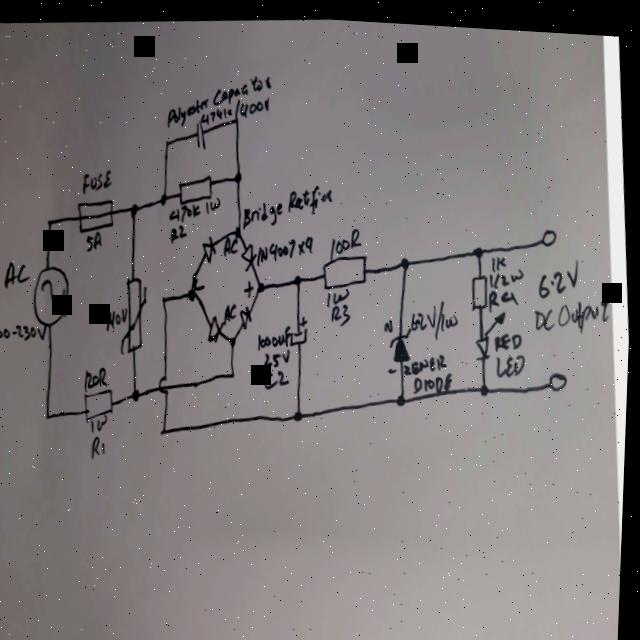capacitor: (288, 308, 311, 340), (192, 115, 206, 148)
crossover: (157, 369, 174, 397)
diode: (473, 300, 510, 358), (382, 310, 417, 369), (239, 235, 260, 268), (207, 309, 226, 341), (201, 229, 218, 260), (239, 299, 255, 327)
junction: (128, 196, 140, 217), (472, 235, 484, 254), (157, 187, 169, 204), (186, 282, 198, 299), (293, 400, 305, 417), (396, 384, 408, 401), (479, 374, 491, 391), (227, 327, 239, 343), (255, 275, 267, 291), (232, 163, 243, 180), (232, 217, 243, 234), (293, 267, 304, 284), (232, 110, 243, 125), (44, 406, 54, 422), (229, 363, 239, 378), (160, 419, 170, 434), (46, 214, 55, 229), (133, 383, 142, 398), (159, 288, 168, 303), (161, 132, 170, 147), (401, 249, 410, 264)
resistor: (321, 245, 370, 287), (176, 168, 215, 204), (83, 385, 118, 421), (469, 263, 490, 305)
source: (30, 260, 74, 326)
terminal: (547, 360, 570, 385), (541, 217, 558, 241)
text: (163, 63, 273, 125), (240, 173, 335, 227), (533, 284, 612, 330), (197, 88, 273, 126), (403, 344, 456, 390), (411, 288, 461, 335), (535, 247, 583, 294), (255, 225, 315, 261), (167, 188, 223, 225), (328, 219, 363, 257), (0, 316, 49, 343), (256, 319, 293, 347), (3, 255, 32, 290), (80, 163, 113, 192), (494, 344, 528, 372), (83, 362, 114, 392), (487, 280, 521, 305), (492, 319, 524, 344), (264, 363, 294, 389), (105, 302, 131, 331), (488, 262, 525, 282), (329, 296, 354, 324), (264, 345, 292, 368), (91, 431, 110, 461), (168, 219, 190, 243), (325, 281, 351, 301), (91, 409, 111, 433), (221, 229, 240, 254), (84, 227, 105, 249), (487, 245, 510, 265), (224, 297, 238, 319), (244, 274, 254, 293), (195, 277, 205, 291)
